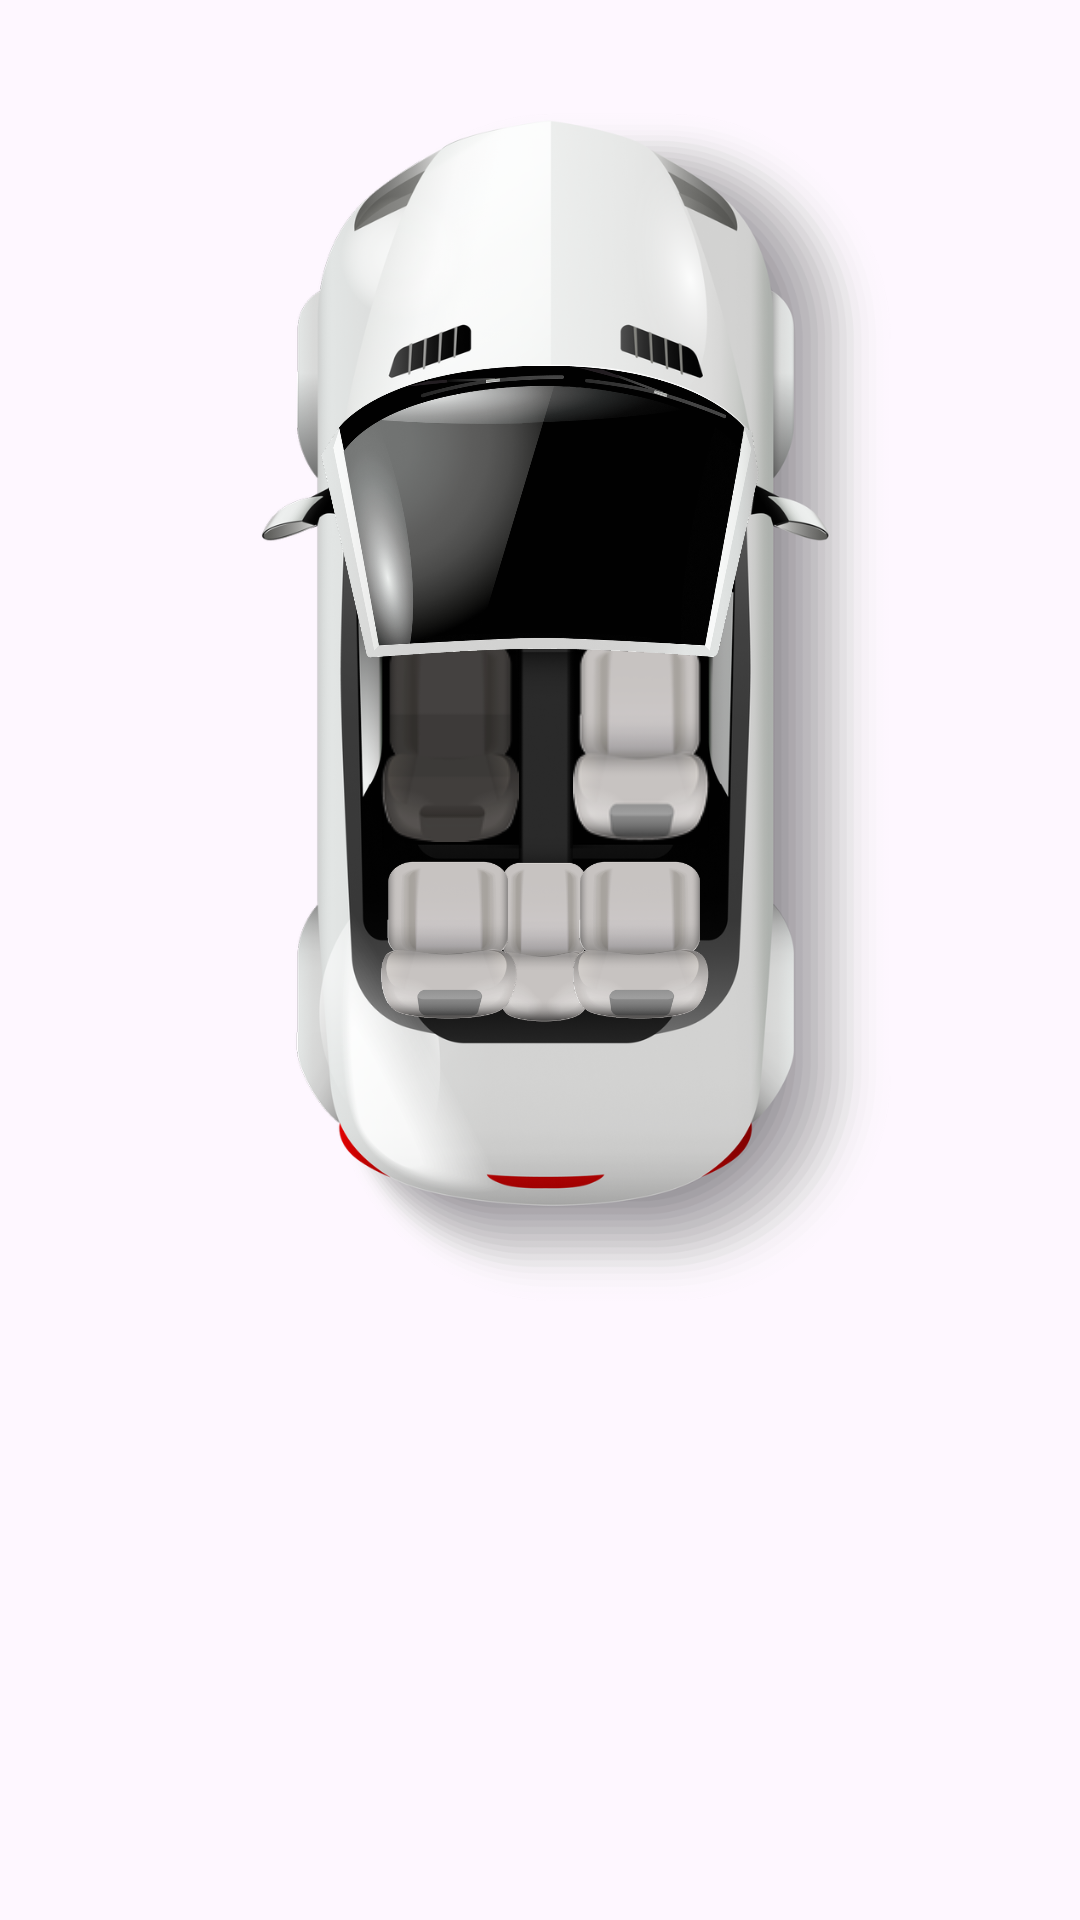

Icon click points for this 1080×1920 phone screenshot, format [x,y]:
seat bottom edge: [450,937], [642,937]
seat bottom middle: [545,939]
seat driver: [450,740]
seat top right: [642,732]
